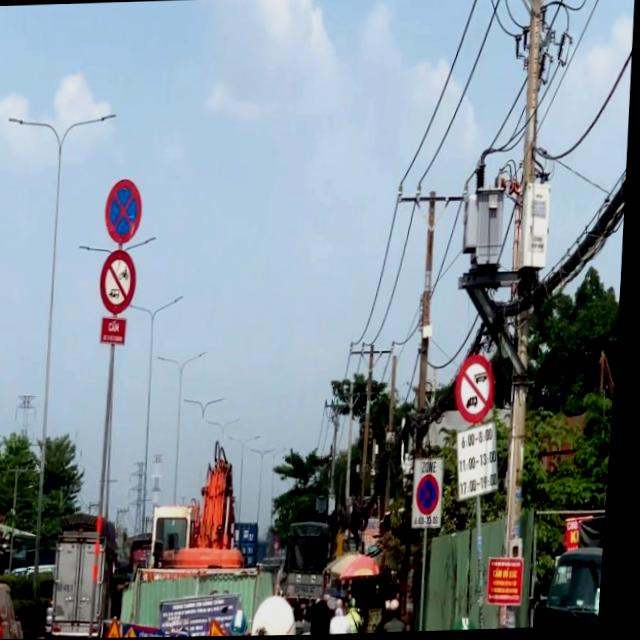Cam dung xe va do xe: (102, 174, 150, 248), (421, 473, 449, 517)
